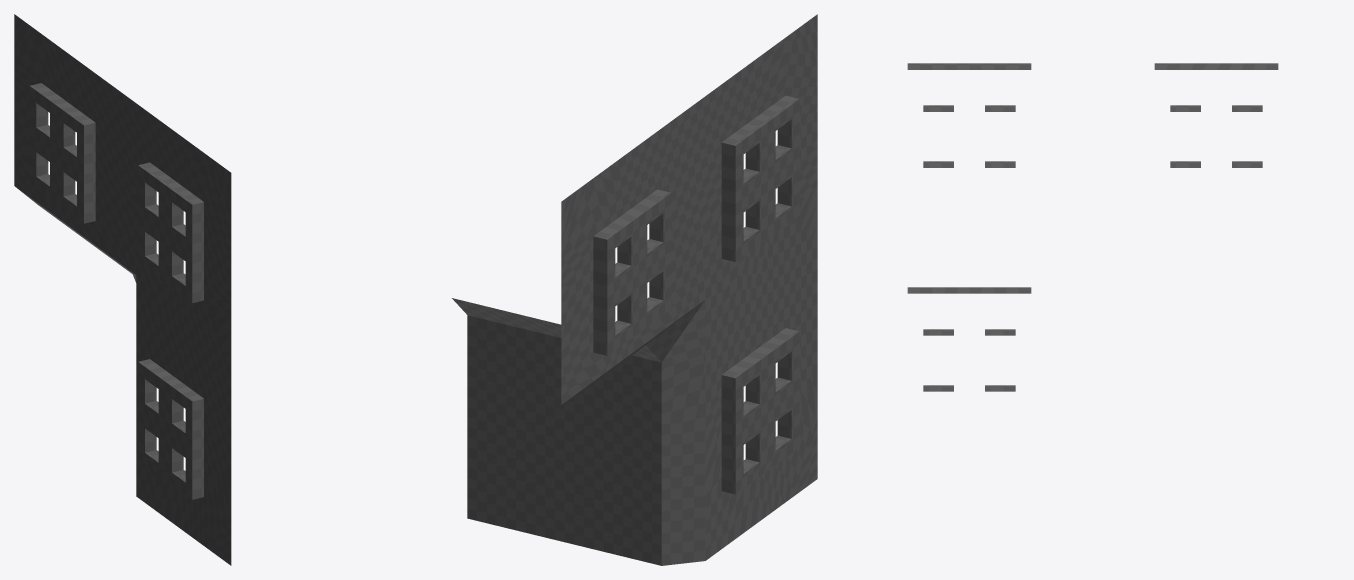
3 renders of one model, left to right at view 1: azimuth 30°, elevation 25°; view 2: azimuth 150°, elevation 25°; view 3: azimuth 270°, elevation 25°, orthographic. The views are drawn at different scales.
Parts seen in each view (by area): view 1: 3; view 2: 3; view 3: 3.
Part boxes in pixels (bbox=[...]): 3: bbox=[14, 14, 231, 565]; 3: bbox=[452, 14, 817, 565]; 3: bbox=[907, 63, 1278, 391].
Bounding box in the file's own units: 2.12 × 4 × 4.
Materials: 2 (2 with a texture image).
